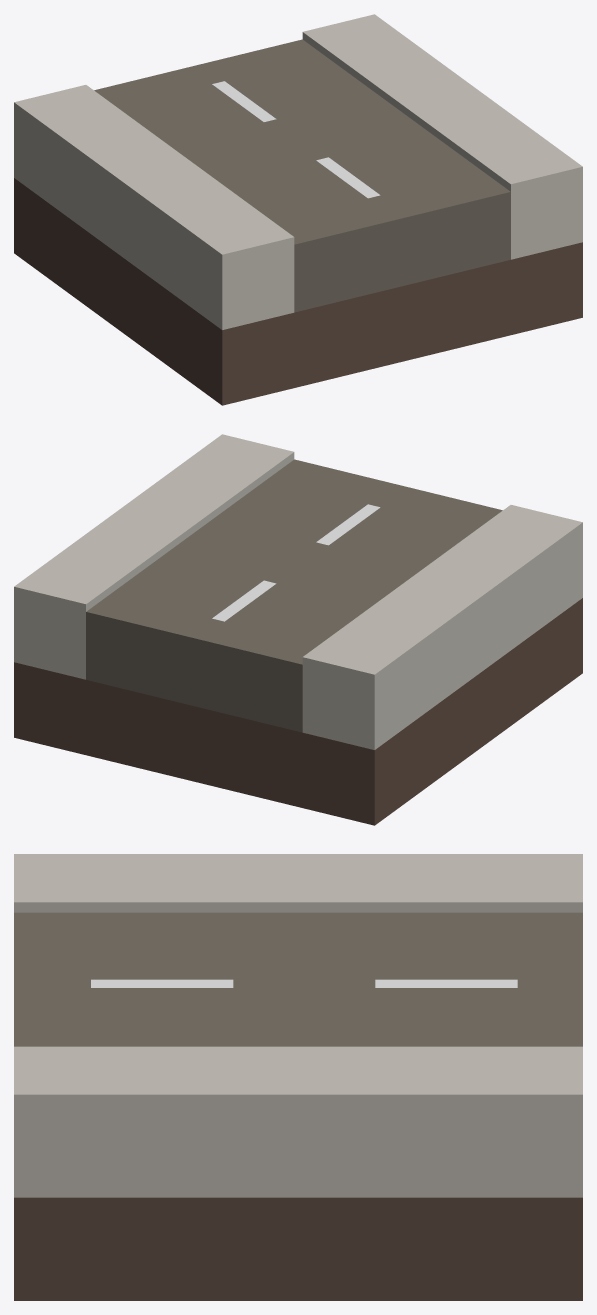
The model's file is road-tile-straight_01_small.fbx.
3 views of the same model, one above another, from view 1: azimuth 30°, elevation 25°; view 2: azimuth 150°, elevation 25°; view 3: azimuth 270°, elevation 25° (orthographic). The views are drawn at different scales.
Parts seen in each view (by area): view 1: road-tile-straight_01_small; view 2: road-tile-straight_01_small; view 3: road-tile-straight_01_small.
Boxes of the visible parts, x1,y1,x2,y2 form: road-tile-straight_01_small: (14, 14, 582, 405); road-tile-straight_01_small: (14, 434, 582, 825); road-tile-straight_01_small: (14, 854, 582, 1300).
Size of the model in its own units: 1000 by 400 by 1000.
